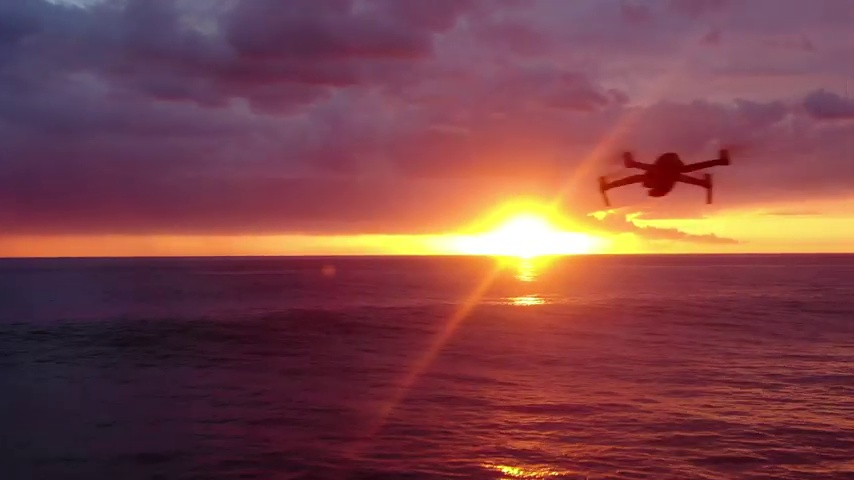drone: (597, 145, 731, 208)
